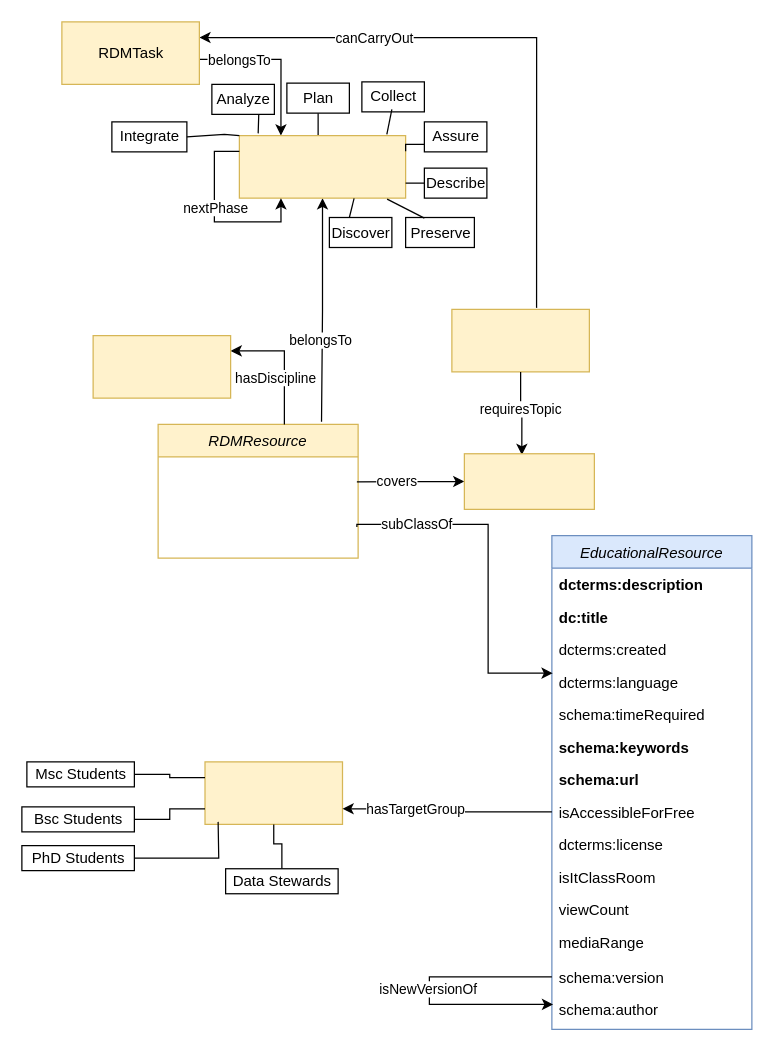
This 774x1051 diagram has some shape labels left out. The shapes that lost their labels are listed below. From the top down, each one's centre as x and y in pixels, then its label:
At pixel 322 166: "DataLifeCyclePhase".
At pixel 520 340: "RDMSkill".
At pixel 161 366: "RDMDiscipline".
At pixel 528 480: "RDMTopic".
At pixel 273 792: "TargetGroup".
